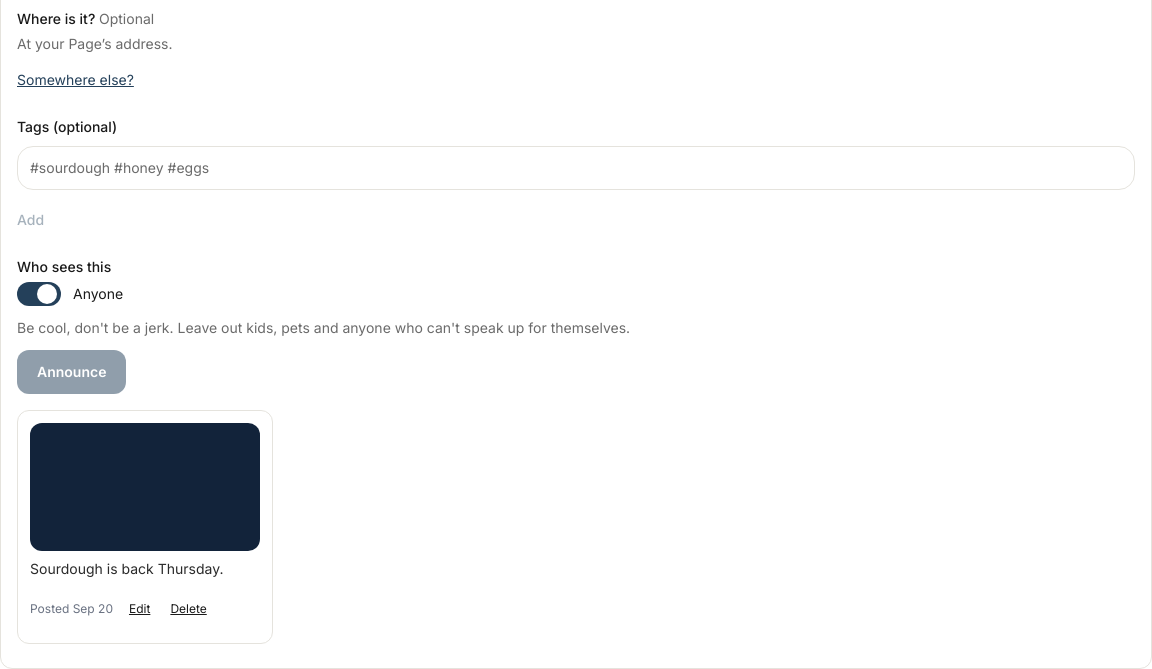
Test: #318 — deleting a post › confirms in a sheet, and the sheet closing changes nothing
(page scrolled)
Click the button with test id "page-post-delete".
click(189, 609)  # box [166, 587, 211, 631]
(page scrolled)
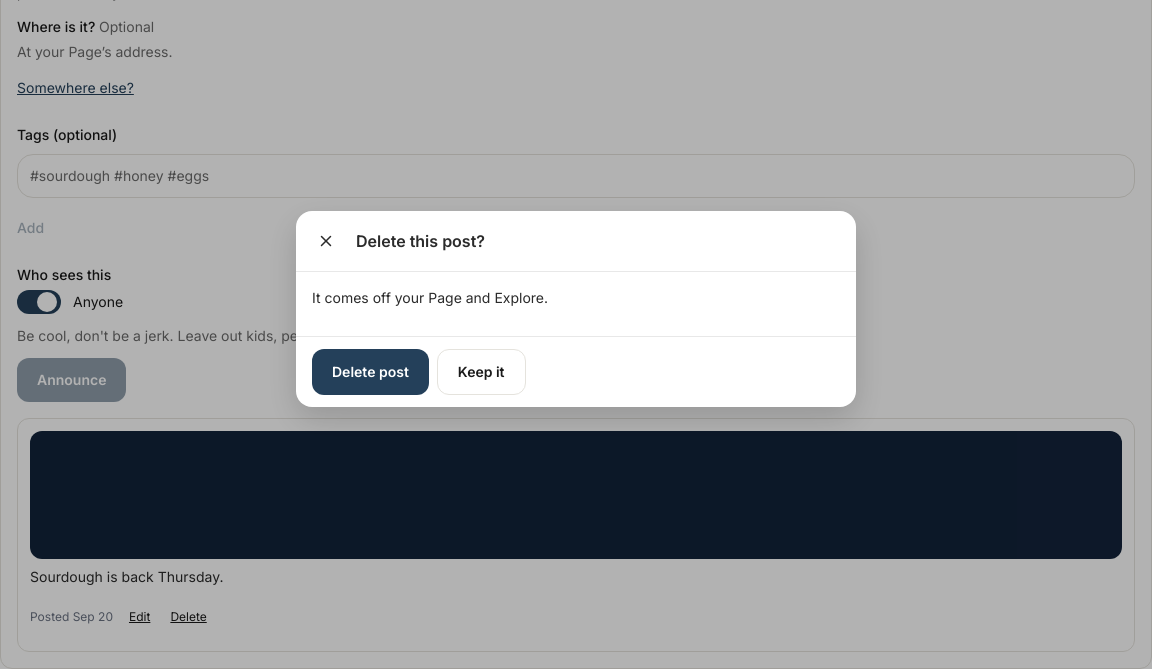
Press Escape in the dialog, box [296, 211, 856, 407]
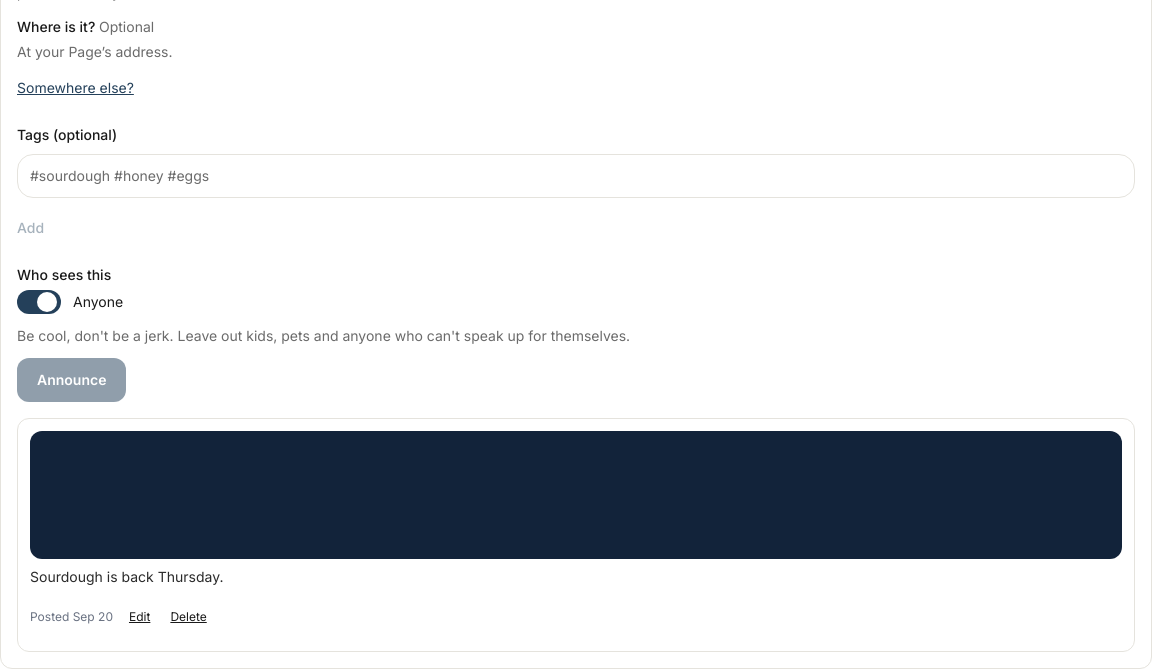
Expected: the dialog is gone
